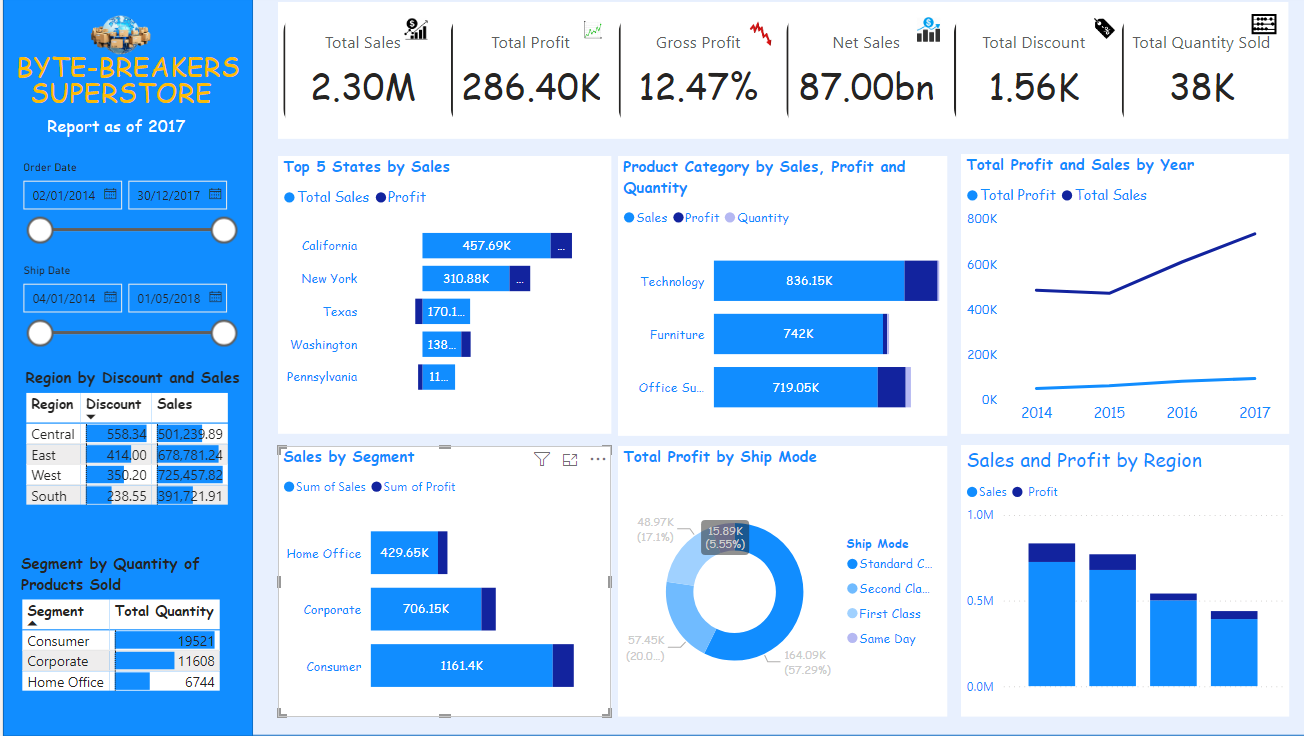

This screenshot's page, from the dashboard's own definition file:
{"tool":"powerbi","page":{"name":"Page 1","canvas":[1280,720],"ordinal":0},"visuals":[{"type":"shape","box":[222.6,0,1044.5,719.1],"z":0},{"type":"shape","box":[0,0,243.2,719.8],"z":1000},{"type":"textbox","box":[0,44.3,243,70],"z":2000},{"type":"textbox","box":[6.8,70,215.8,71.9],"z":3000},{"type":"textbox","box":[0,109.1,219.9,41.7],"z":4000},{"type":"cardVisual","fields":{"Data":["Sales.Total Sales","Sales.Total Profit","Sales.Gross Profit","Sales.Net Sales","Sales.Total Discount","Sales.Total Quantity Sold"]},"box":[266.9,6.2,982.5,133],"z":5000},{"type":"slicer","fields":{"Values":["Order.Order Date"]},"box":[6.8,155.5,228.4,102.1],"z":6000},{"type":"slicer","fields":{"Values":["Order.Ship Date"]},"box":[6.8,255.6,228.4,104],"z":7000},{"type":"barChart","title":"Top 5 States by Sales","fields":{"Category":["Region.State"],"Y":["Sum(Region.Sales)","Sum(Region.Profit)"]},"box":[267.3,155.5,323.6,270.2],"z":8000},{"type":"barChart","title":"Sales by Segment","fields":{"Category":["Order.Segment"],"Y":["Sum(Order.Sales)","Sum(Order.Profit)"]},"box":[267.3,437.4,323.6,263.4],"z":9000},{"type":"donutChart","title":"Total Profit by Ship Mode","fields":{"Category":["Order.Ship Mode"],"Y":["Sum(Order.Profit)"]},"box":[597.7,437.4,319.8,263.4],"z":10000},{"type":"barChart","title":"Product Category by Sales, Profit and Quantity","fields":{"Category":["Product Category.Category"],"Y":["Sum(Product Category.Sales)","Sum(Product Category.Profit)","Sum(Product Category.Quantity)"]},"box":[597.7,155.5,319.8,272.1],"z":11000},{"type":"lineChart","title":"Total Profit and Sales by Year","fields":{"Category":["Order.Order Date.Variation.Date Hierarchy.Year","Order.Order Date.Variation.Date Hierarchy.Quarter","Order.Order Date.Variation.Date Hierarchy.Month","Order.Order Date.Variation.Date Hierarchy.Day"],"Y":["Sum(Order.Profit)","Sum(Order.Sales)"]},"box":[931.1,153.6,318.8,272.1],"z":12000},{"type":"tableEx","title":"Segment by Quantity of Products Sold","fields":{"Values":["Order.Segment","Sum(Order.Quantity)"]},"box":[12.6,541.4,240.1,159.4],"z":13000},{"type":"tableEx","title":"Region by Discount and Sales","fields":{"Values":["Region.Region","Sum(Region.Discount)","Sum(Region.Sales)"]},"box":[16.8,360.9,219,174.7],"z":14000},{"type":"image","box":[0,6.2,228.8,63.8],"z":15000},{"type":"image","box":[718.2,15.1,36.4,42.6],"z":16000},{"type":"image","box":[384.8,15.1,32.8,32.8],"z":17000},{"type":"image","box":[1055.2,15.1,30.1,31.9],"z":18000},{"type":"image","box":[881.4,15.1,36.4,33.7],"z":19000},{"type":"image","box":[556.8,17.7,33.7,31],"z":20000},{"type":"image","box":[1207.7,8,34.6,38.1],"z":21000},{"type":"columnChart","fields":{"Category":["Region.Region"],"Y":["Sum(Region.Sales)","Sum(Region.Profit)"]},"box":[931.1,436.4,318.8,264.4],"z":22000}]}

Visuals, with their boxes in screenshot pixels (x1, y1, x2, y2), scaled from the page's 1280x720 canvas onto the 1304x736 screenshot:
shape: BBox(227, 0, 1291, 735)
shape: BBox(0, 0, 248, 735)
textbox: BBox(0, 45, 248, 117)
textbox: BBox(7, 72, 227, 145)
textbox: BBox(0, 112, 224, 154)
cardVisual - Sales.Total Sales x Sales.Total Profit: BBox(272, 6, 1273, 142)
slicer - Order.Order Date: BBox(7, 159, 240, 263)
slicer - Order.Ship Date: BBox(7, 261, 240, 368)
"Top 5 States by Sales" barChart: BBox(272, 159, 602, 435)
"Sales by Segment" barChart: BBox(272, 447, 602, 716)
"Total Profit by Ship Mode" donutChart: BBox(609, 447, 935, 716)
"Product Category by Sales, Profit and Quantity" barChart: BBox(609, 159, 935, 437)
"Total Profit and Sales by Year" lineChart: BBox(949, 157, 1273, 435)
"Segment by Quantity of Products Sold" tableEx: BBox(13, 553, 257, 716)
"Region by Discount and Sales" tableEx: BBox(17, 369, 240, 548)
image: BBox(0, 6, 233, 72)
image: BBox(732, 15, 769, 59)
image: BBox(392, 15, 425, 49)
image: BBox(1075, 15, 1106, 48)
image: BBox(898, 15, 935, 50)
image: BBox(567, 18, 602, 50)
image: BBox(1230, 8, 1266, 47)
columnChart - Region.Region x Sum(Region.Sales): BBox(949, 446, 1273, 716)
